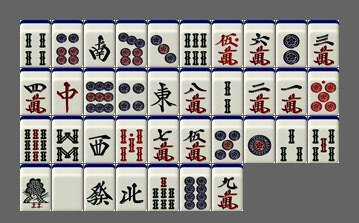0m: (212, 20, 243, 67)
0p: (308, 68, 339, 115)
0s: (116, 116, 147, 163)
1m: (276, 68, 307, 115)
1p: (244, 116, 275, 163)
1s: (20, 164, 51, 211)
1z: (148, 68, 179, 115)
2m: (244, 68, 275, 115)
2p: (276, 20, 307, 67)
2s: (212, 68, 243, 115)
2z: (84, 20, 115, 67)
3m: (308, 20, 339, 67)
3p: (148, 20, 179, 67)
3s: (276, 116, 307, 163)
3z: (84, 116, 115, 163)
4m: (20, 68, 51, 115)
4p: (116, 68, 147, 115)
4s: (20, 20, 51, 67)
4z: (116, 164, 147, 211)
5m: (180, 116, 211, 163)
5p: (212, 116, 243, 163)
5s: (308, 116, 339, 163)
5z: (52, 164, 83, 211)
6m: (244, 20, 275, 67)
6p: (52, 20, 83, 67)
6s: (180, 20, 211, 67)
6z: (84, 164, 115, 211)
7m: (148, 116, 179, 163)
7p: (116, 20, 147, 67)
7s: (148, 164, 179, 211)
7z: (52, 68, 83, 115)
8m: (180, 68, 211, 115)
8p: (180, 164, 211, 211)
8s: (52, 116, 83, 163)
9m: (212, 164, 243, 211)
9p: (84, 68, 115, 115)
9s: (20, 116, 51, 163)
